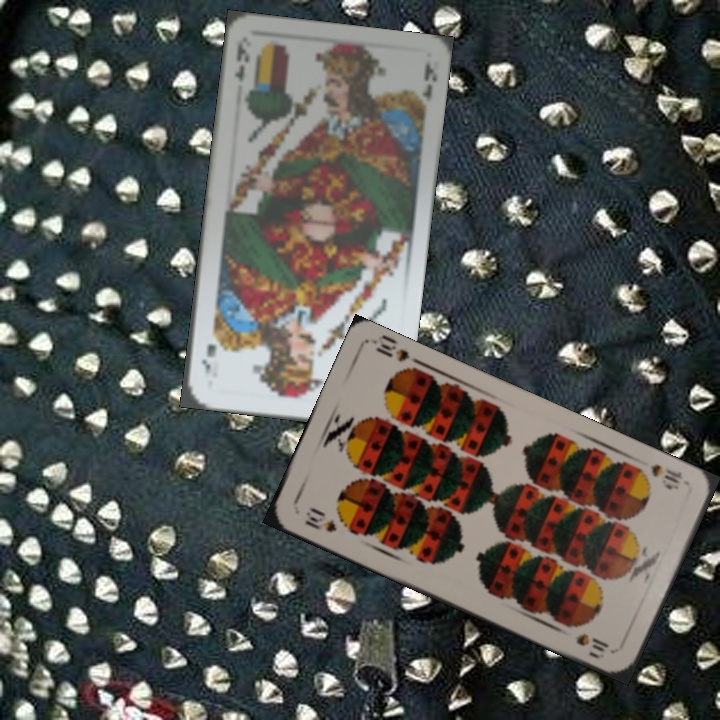EK: (229, 36, 252, 85)
S10: (632, 460, 687, 492), (300, 505, 340, 535)
